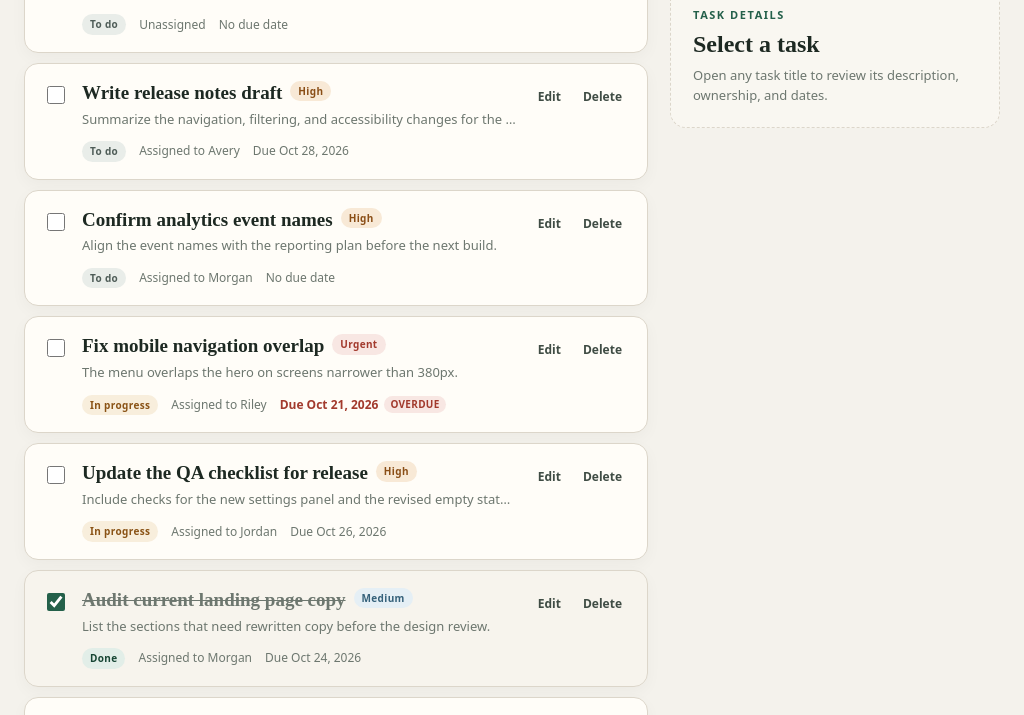
Test: TaskBoard › opens a task in the details panel
(page scrolled)
Click the button "Fix mobile navigation overlap". click: coordinates (203, 346)
box: [82, 334, 324, 358]
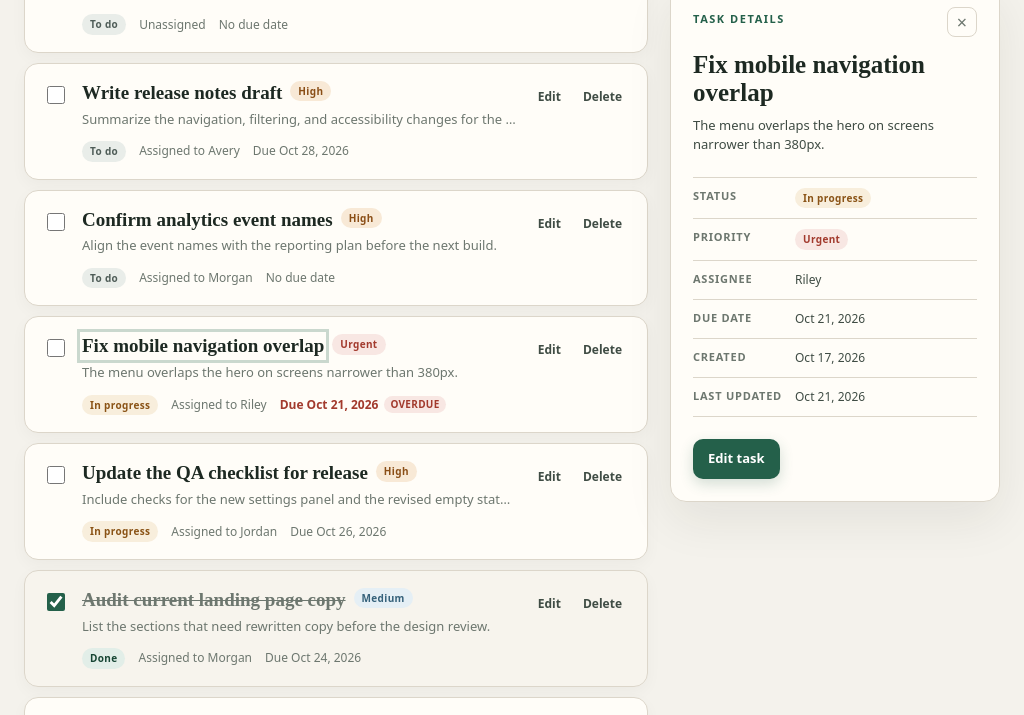
expect the heading "Fix mobile navigation overlap" is shown: met, box [693, 51, 925, 106]
expect the text "In progress" below "Task details" is shown: met, box [803, 191, 863, 205]
expect the text "Riley" is shown: met, box [795, 271, 821, 288]
